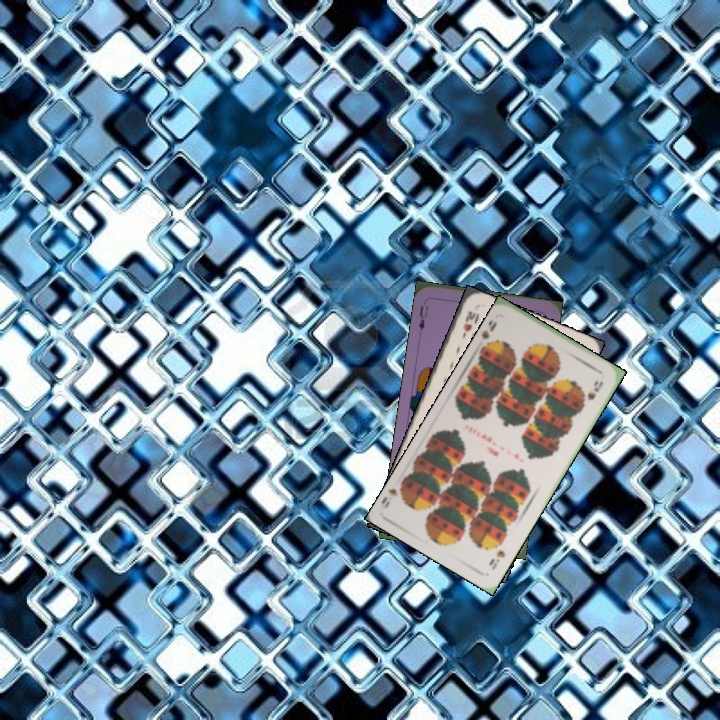EU: (415, 301, 431, 333)
H10: (458, 307, 480, 341)
S9: (478, 316, 500, 351), (485, 546, 508, 572)
